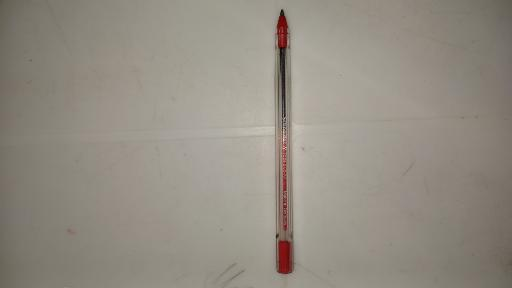pen: (274, 8, 296, 274)
